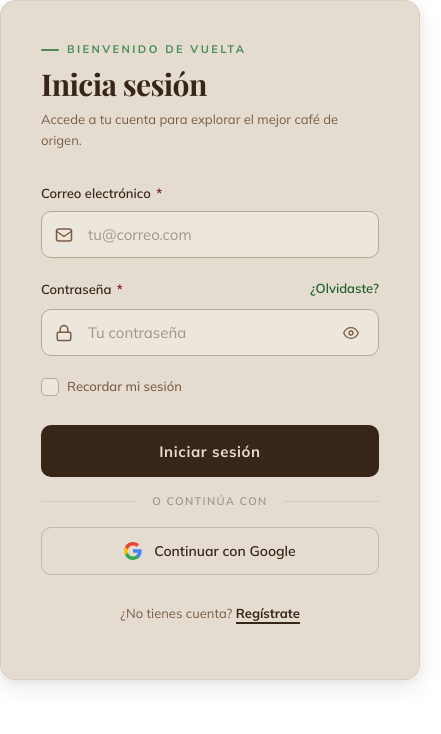
Test: LoginFormComponent › shows "correo válido" error for invalid email format
This screenshot has width=441, height=734.
Type "notanemail" into the field with id "login-email" at coordinates (210, 235), box [41,212,379,258]
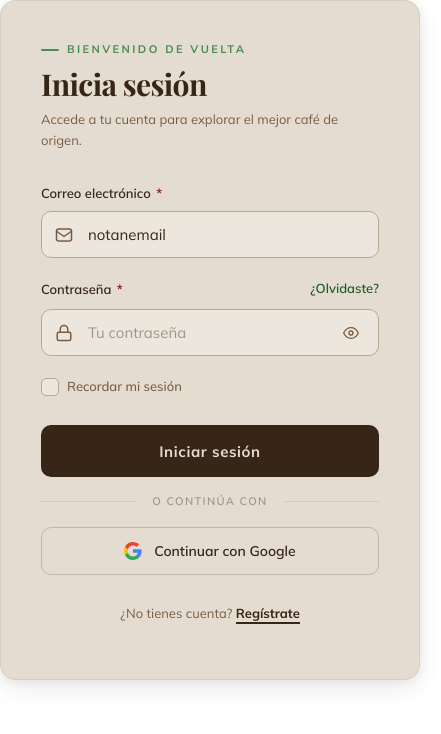
Leave the field with id "login-email", box [41,212,379,258]
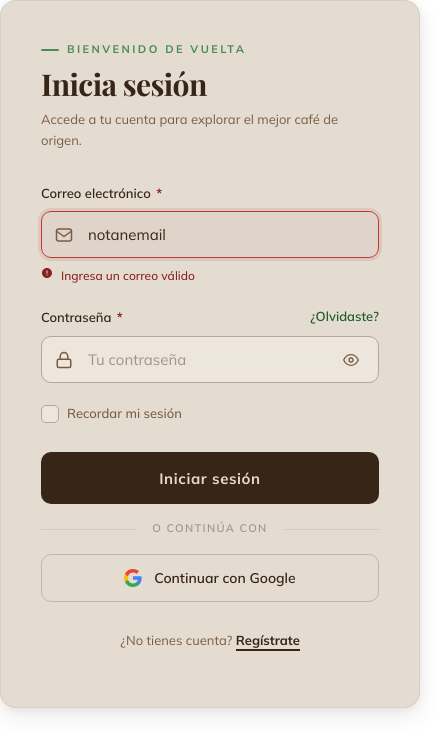
Expected: the message with id "login-email-error" shows "correo válido", [61,268,195,284]
